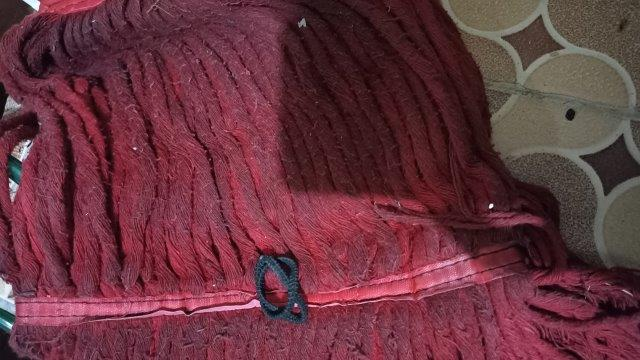karet: (253, 255, 308, 325)
